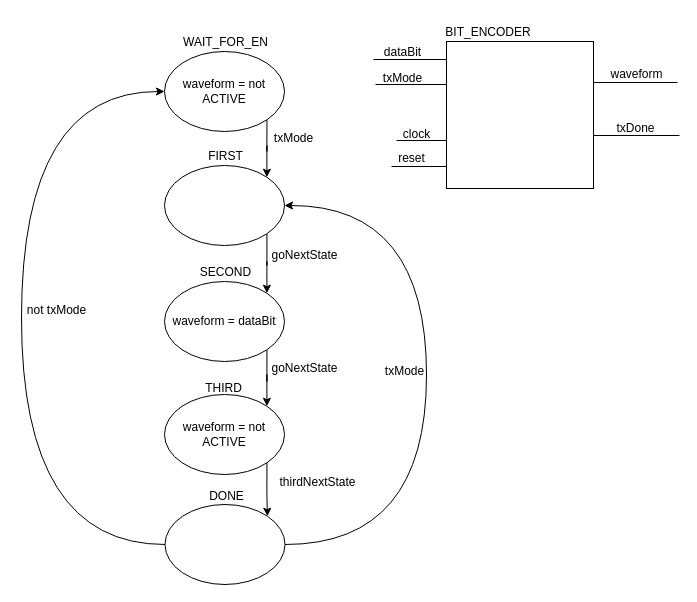
The diagram is 697 pixels wide and 602 high, and some of its shapes have lost their labels. The centre of each missing label's shape, as x and y in pixels:
waveform = ACTIVE: (x=224, y=205)
waveform = not ACTIVE txDone = ACTIVE: (x=224, y=544)
